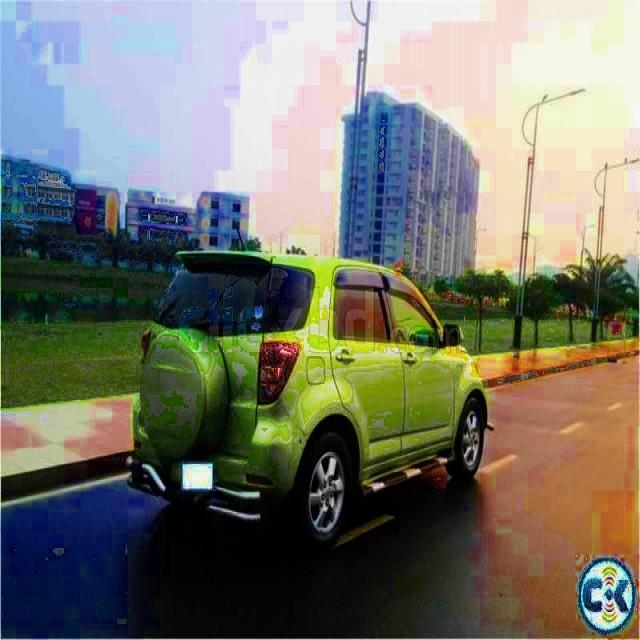green: (132, 241, 496, 547)
